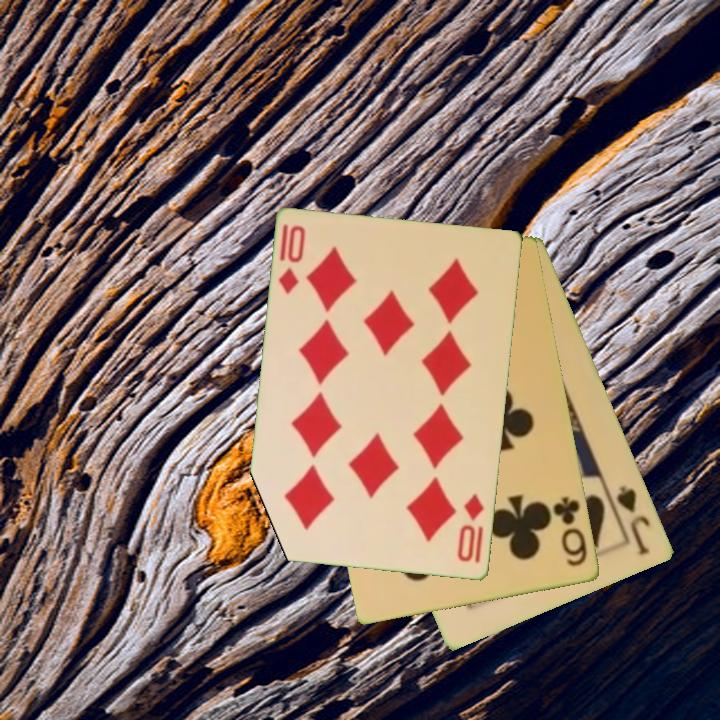10d: (275, 222, 309, 297), (454, 490, 487, 566)
6c: (550, 493, 591, 570)
Js: (613, 482, 654, 559)
